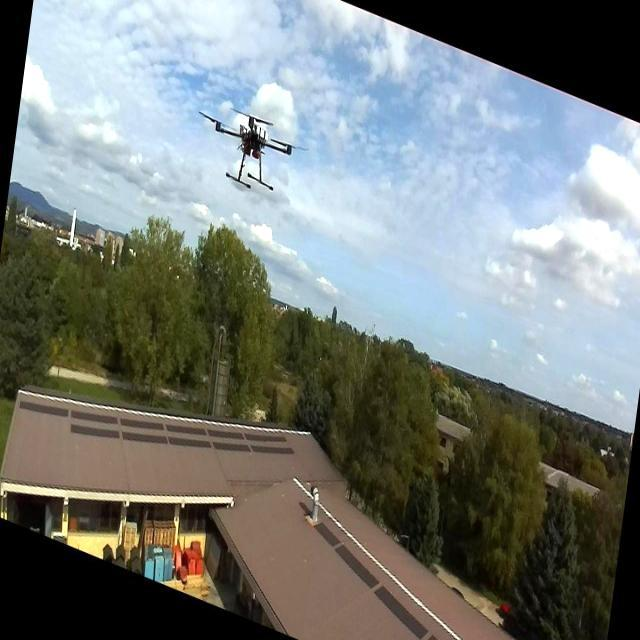drone: (195, 92, 302, 208)
